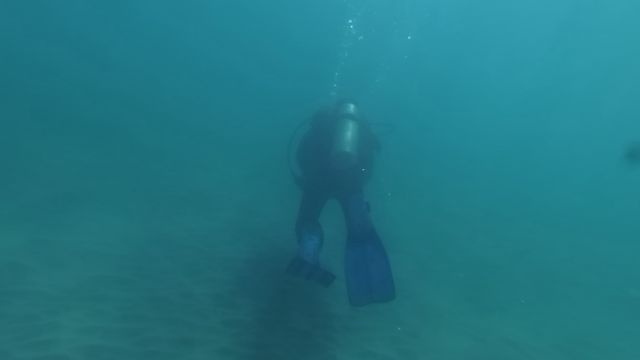Diver: (270, 80, 415, 331)
